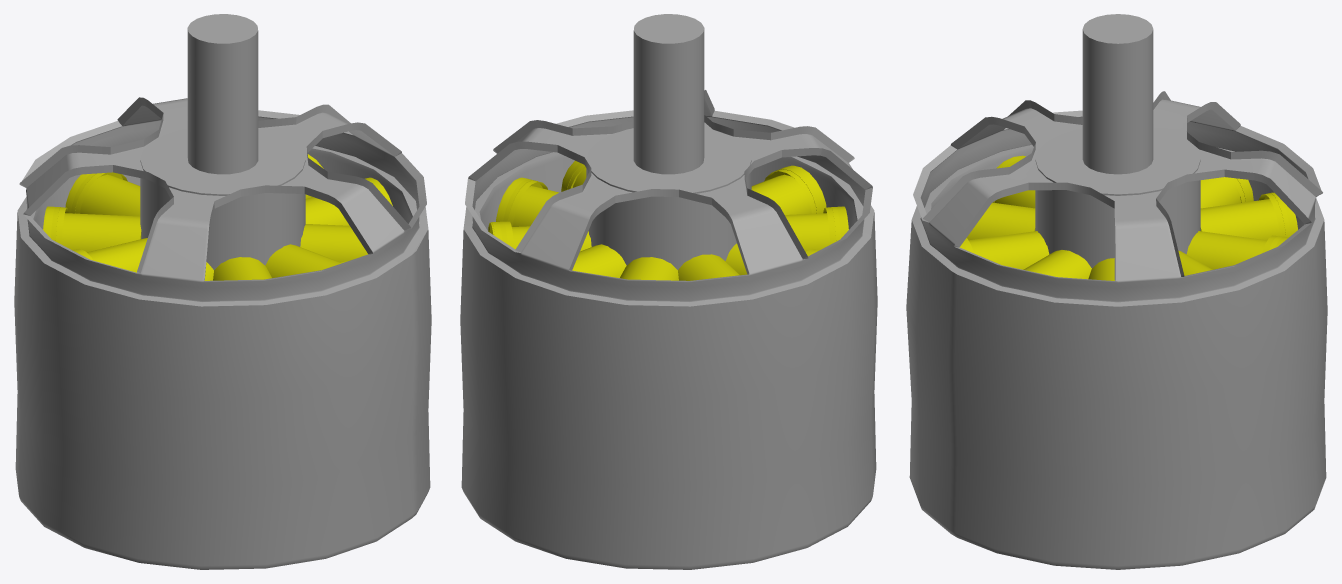
Rendered from motor_type_2.fbx.
3 renders of one model, left to right at view 1: azimuth 30°, elevation 25°; view 2: azimuth 150°, elevation 25°; view 3: azimuth 270°, elevation 25°, orthographic.
Visible parts, largest first — view 1: pCylinder10, pCylinder11, coil_7_6 (×6), coil; view 2: pCylinder10, pCylinder11, coil_7_6 (×7), coil; view 3: pCylinder10, coil_7_6 (×7), pCylinder11.
Boxes of the visible parts, left/top/right/bottom form: pCylinder10: left=14, top=14, right=431, bottom=569; pCylinder11: left=140, top=128, right=305, bottom=269; coil_7_6 (×6): left=43, top=172, right=367, bottom=280; coil: left=305, top=177, right=392, bottom=225; pCylinder10: left=460, top=14, right=877, bottom=569; pCylinder11: left=586, top=128, right=751, bottom=269; coil_7_6 (×7): left=488, top=160, right=848, bottom=280; coil: left=496, top=177, right=558, bottom=226; pCylinder10: left=906, top=14, right=1327, bottom=569; coil_7_6 (×7): left=959, top=155, right=1297, bottom=279; pCylinder11: left=1035, top=128, right=1200, bottom=267.
Size of the model in its own units: 2.54 by 3.03 by 2.55.
